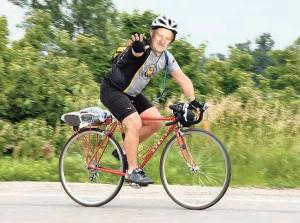With Helmet: (148, 12, 182, 54)
